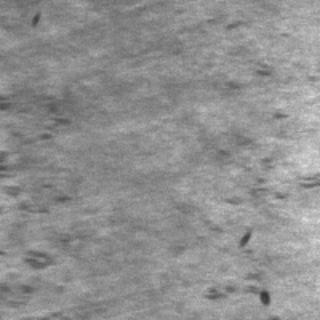rolled pit: (199, 17, 283, 306), (0, 79, 86, 314)
